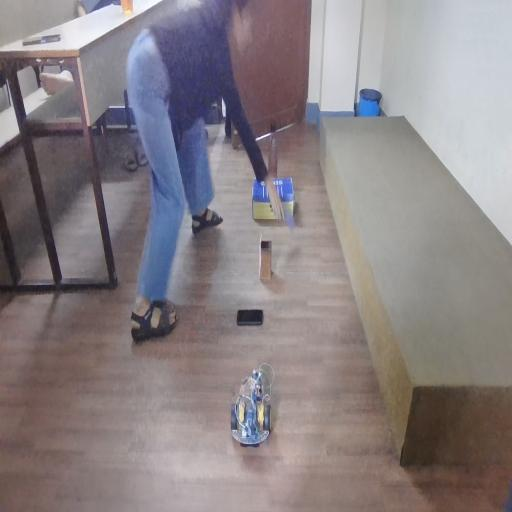Bottle: (270, 110, 282, 172)
car: (231, 372, 291, 461)
